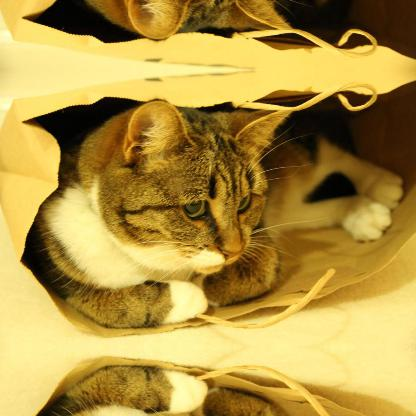Cat: (34, 98, 404, 328), (33, 364, 405, 415)
